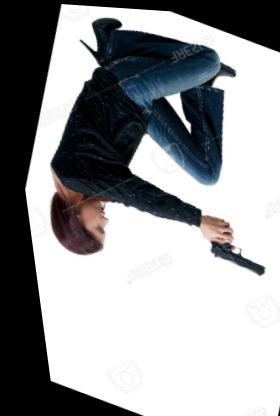pistol: (192, 217, 269, 278)
